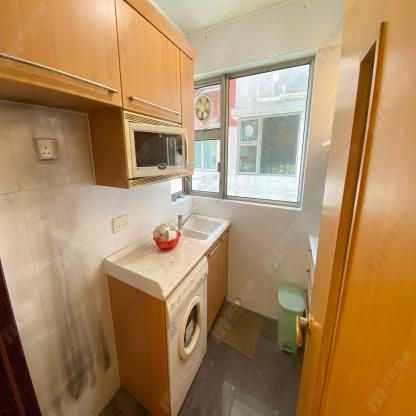Cupboard: (205, 227, 228, 336), (304, 237, 316, 332)
Exhaust Fan: (194, 92, 214, 125)
Faucet: (174, 205, 199, 228)
Microwave: (122, 110, 189, 191)
Sink: (175, 213, 223, 241)
Washing Machine: (163, 254, 208, 416)
